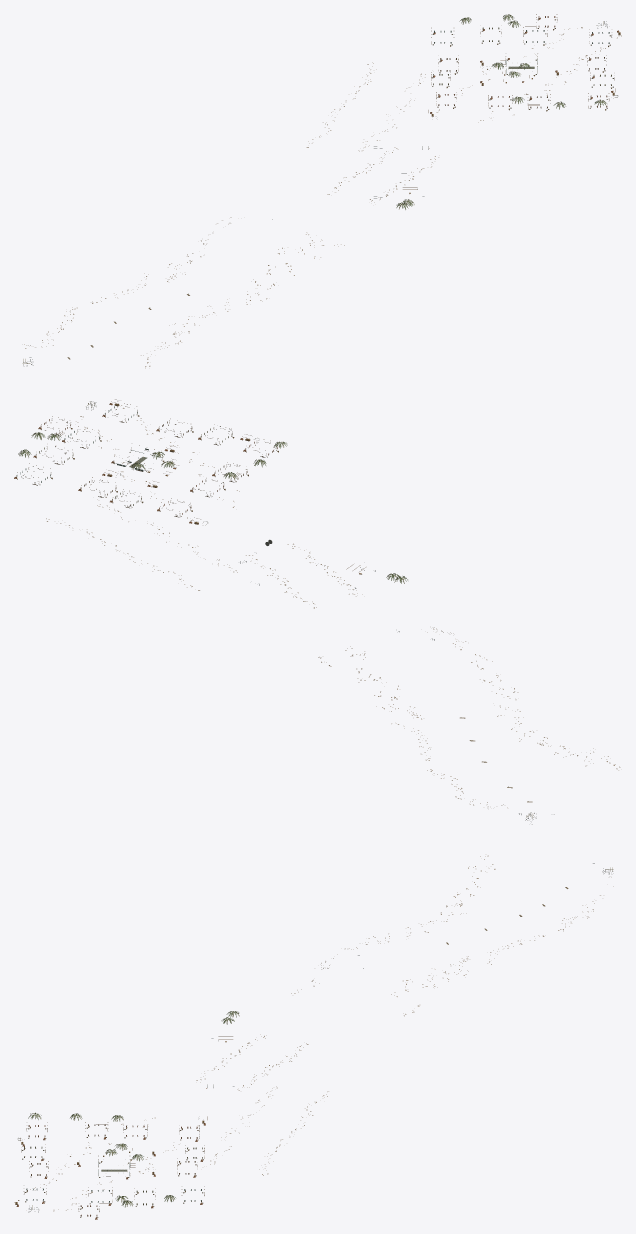
The model's file is detail.glb.
3 views of the same model, one above another, from view 1: azimuth 90°, elevation 25°; view 2: azimuth 150°, elevation 25°; view 3: azimuth 270°, elevation 25° (orthographic). The views are drawn at different scales.
Size of the model in its own units: 439 by 21.29 by 316.
